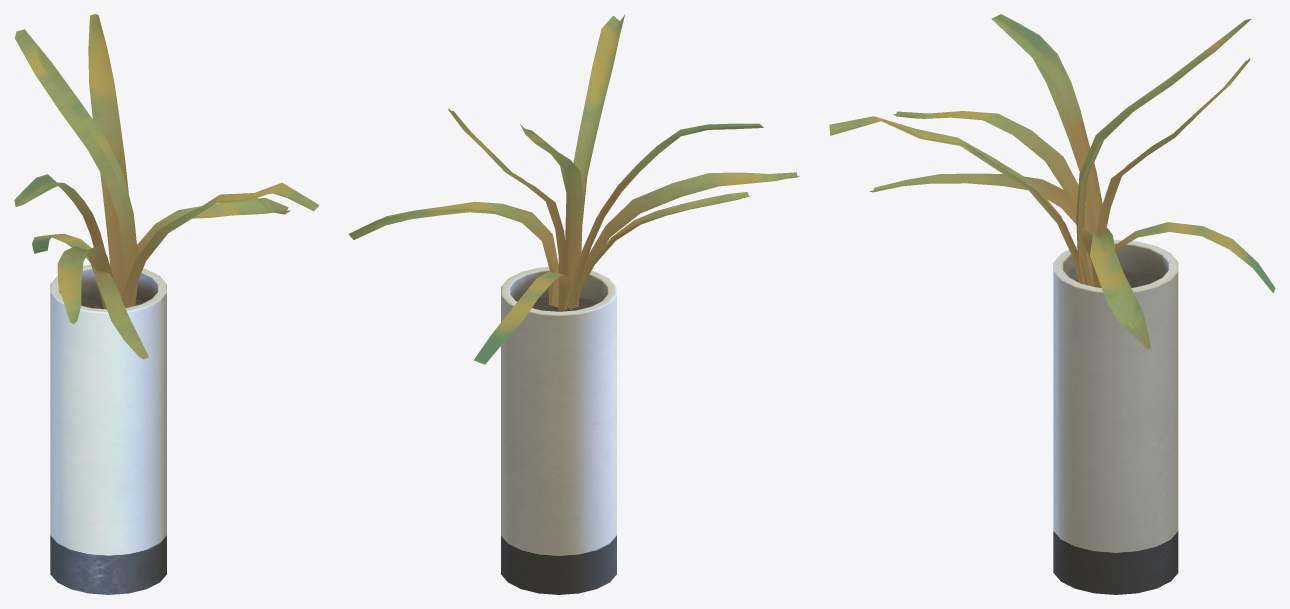
File: young_wheat_temp_3.glb
The picture shows the model from 3 angles, left to right: view 1: azimuth 30°, elevation 25°; view 2: azimuth 150°, elevation 25°; view 3: azimuth 270°, elevation 25°; orthographic projection. The views are drawn at different scales.
Parts seen in each view (by area): view 1: Object075, young_wheat_temp_3; view 2: Object075, young_wheat_temp_3; view 3: Object075, young_wheat_temp_3.
Boxes of the visible parts, bbox=[...] form: Object075: bbox=[50, 263, 166, 594]; young_wheat_temp_3: bbox=[14, 14, 319, 359]; Object075: bbox=[501, 267, 616, 594]; young_wheat_temp_3: bbox=[348, 14, 799, 364]; Object075: bbox=[1053, 239, 1178, 594]; young_wheat_temp_3: bbox=[829, 14, 1275, 349].
Size of the model in its own units: 0.1897 by 0.262 by 0.1975.
3 materials, 3 textured.
